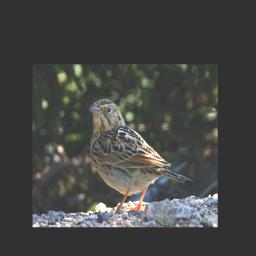Sparrow: (84, 94, 195, 214)
